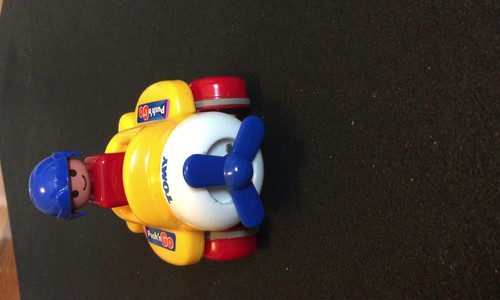toy: (27, 71, 269, 267)
